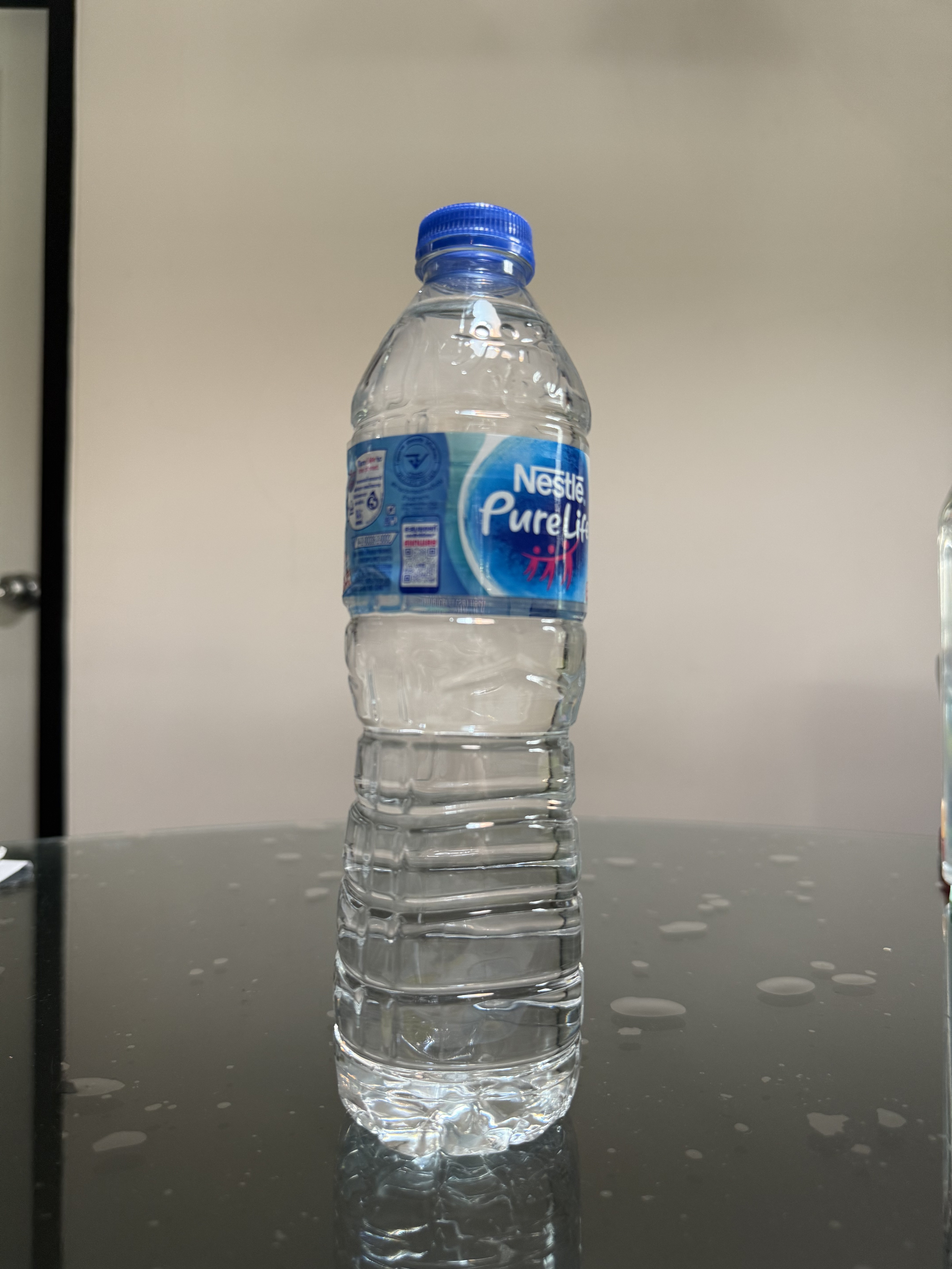closed_cap: (412, 199, 537, 285)
